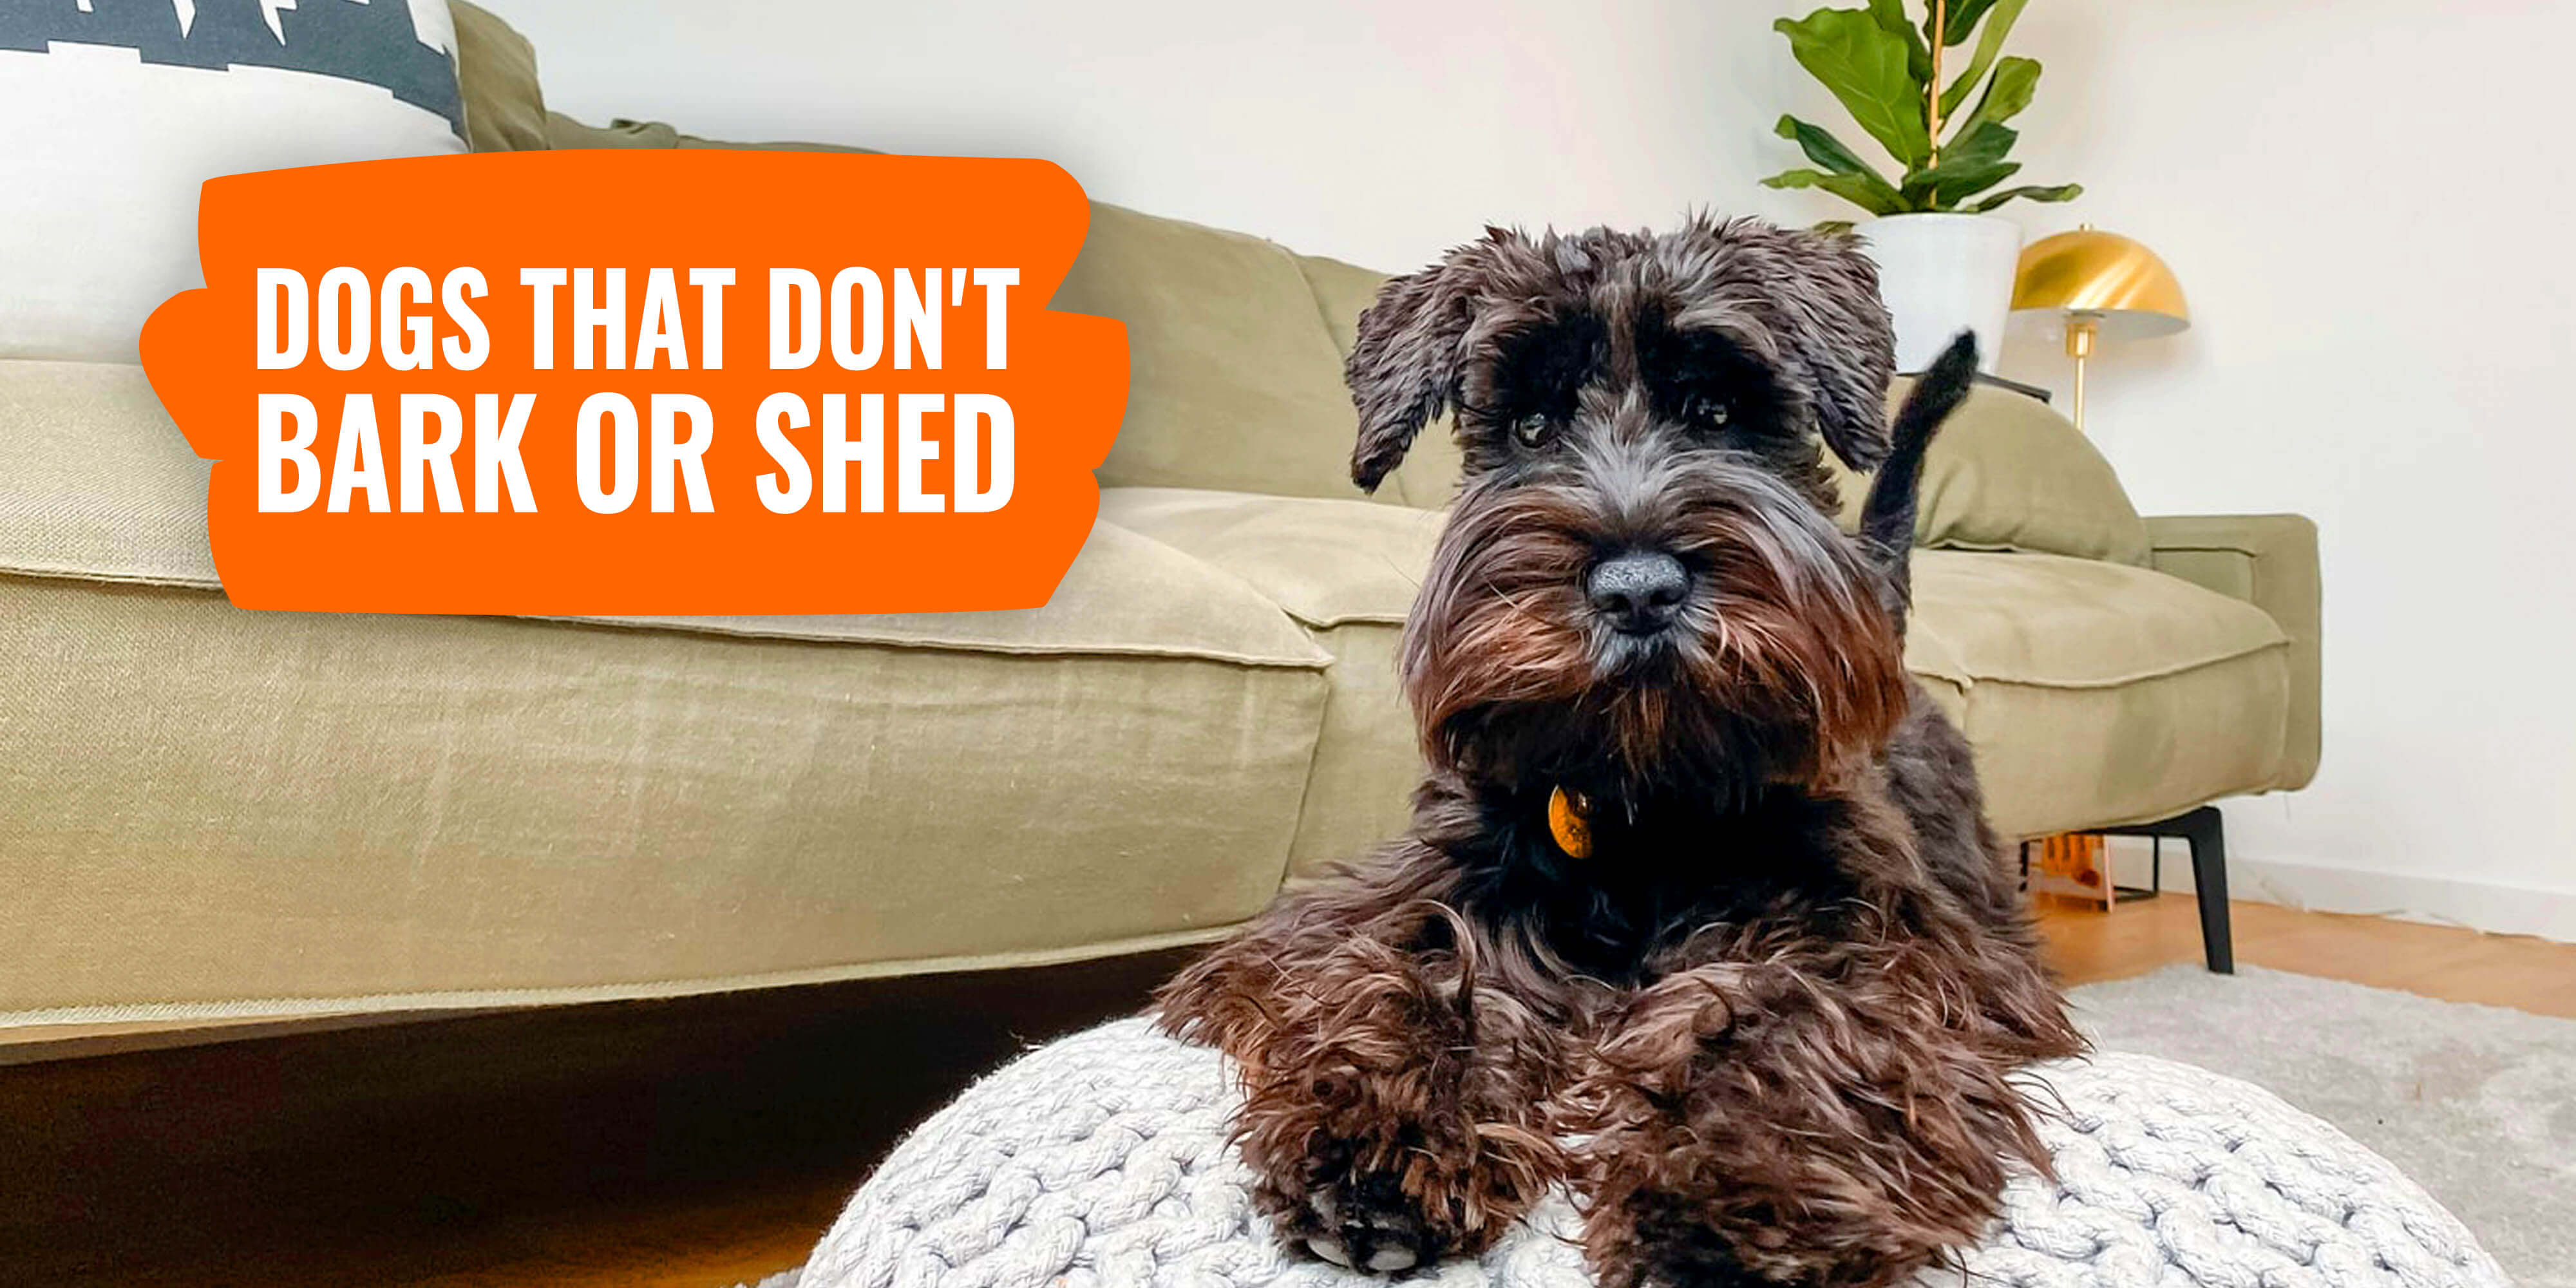dog: (1237, 200, 2073, 1288)
